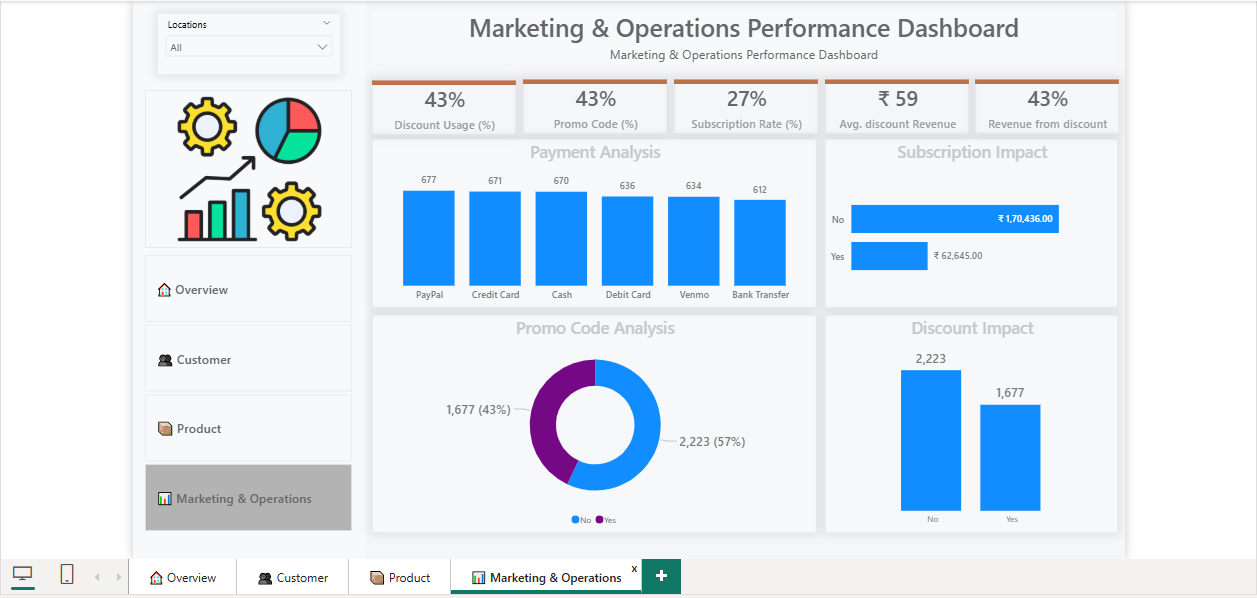

Layout of this report page (visuals, bound fields, positions):
{"tool":"powerbi","page":{"name":"📊    Marketing & Operations","canvas":[1280,720],"ordinal":3},"visuals":[{"type":"shape","box":[0,0,300.5,720],"z":0},{"type":"card","title":"Total Customer","fields":{"Values":["Overview Measure.Promo Code (%)"]},"box":[503,99,186.1,71.8],"z":0,"group":"g2"},{"type":"card","title":"Total Customer","fields":{"Values":["Overview Measure.Subscription Rate (%)"]},"box":[697.7,99.2,186.1,71.8],"z":0,"group":"g3"},{"type":"card","title":"Total Customer","fields":{"Values":["Overview Measure.Avg. discount Revenue"]},"box":[892.3,99.5,186.1,71.8],"z":0,"group":"g4"},{"type":"card","title":"Total Customer","fields":{"Values":["Overview Measure.Revenue from discount"]},"box":[1087,99.7,186.1,71.8],"z":0,"group":"g5"},{"type":"card","title":"Total Customer","fields":{"Values":["Overview Measure.Discount Usage (%)"]},"box":[308.4,100,186.1,71.8],"z":0,"group":"g1"},{"type":"shape","box":[503.6,94,185.7,19.8],"z":1000,"group":"g2"},{"type":"shape","box":[698.3,94.2,185.7,19.8],"z":1000,"group":"g3"},{"type":"shape","box":[892.9,94.5,185.7,19.8],"z":1000,"group":"g4"},{"type":"shape","box":[1087.6,94.7,185.7,19.8],"z":1000,"group":"g5"},{"type":"shape","box":[309,95,185.7,19.8],"z":1000,"group":"g1"},{"type":"pageNavigator","box":[15.5,327.7,267.1,357.4],"z":1000},{"type":"image","box":[15.5,114.8,267.1,203.9],"z":2000},{"type":"textbox","title":"Marketing & Operations Performance Dashboard","box":[308.4,11.6,960,74],"z":3000},{"type":"group","id":"g1","title":"Total Customer","box":[308.4,95,186.3,76.8],"z":4000},{"type":"group","id":"g2","title":"Total Customer","box":[503,94,186.3,76.8],"z":5000},{"type":"group","id":"g3","title":"Total Customer","box":[697.7,94.2,186.3,76.8],"z":6000},{"type":"group","id":"g4","title":"Total Customer","box":[892.3,94.5,186.3,76.8],"z":7000},{"type":"group","id":"g5","title":"Total Customer","box":[1087,94.7,186.3,76.8],"z":8000},{"type":"columnChart","title":"Payment Analysis","fields":{"Category":["dim_Payment_Type.@Payment_Type"],"Y":["Overview Measure.Total Order"]},"box":[309,178.6,574,218.3],"z":9000},{"type":"clusteredBarChart","title":"Subscription Impact","fields":{"Category":["FSales.Subscription Status"],"Y":["Overview Measure.Total Revenue"]},"box":[892.9,178.6,378,218.3],"z":10000},{"type":"donutChart","title":"Promo Code Analysis","fields":{"Category":["FSales.Promo Code Used"],"Y":["Overview Measure.Total Order"]},"box":[309,405.4,574,280.6],"z":11000},{"type":"columnChart","title":"Discount Impact","fields":{"Y":["Overview Measure.Total Order"],"Category":["FSales.Discount Applied"]},"box":[892.9,405.4,378.4,280.6],"z":12000},{"type":"slicer","fields":{"Values":["dim_Location.@Locations"]},"box":[31,15.5,237.4,80],"z":13000}]}

Visuals, with their boxes on the page's 1280x720 design canvas (x1, y1, x2, y2). These are canvas units, not pixel positions in the 1257x598 screenshot, which may show the page scaled, cropped or inside an application window:
shape: pyautogui.locateOnScreen(0, 0, 300, 720)
"Total Customer" card: pyautogui.locateOnScreen(503, 99, 689, 171)
"Total Customer" card: pyautogui.locateOnScreen(698, 99, 884, 171)
"Total Customer" card: pyautogui.locateOnScreen(892, 100, 1078, 171)
"Total Customer" card: pyautogui.locateOnScreen(1087, 100, 1273, 172)
"Total Customer" card: pyautogui.locateOnScreen(308, 100, 494, 172)
shape: pyautogui.locateOnScreen(504, 94, 689, 114)
shape: pyautogui.locateOnScreen(698, 94, 884, 114)
shape: pyautogui.locateOnScreen(893, 94, 1079, 114)
shape: pyautogui.locateOnScreen(1088, 95, 1273, 114)
shape: pyautogui.locateOnScreen(309, 95, 495, 115)
pageNavigator: pyautogui.locateOnScreen(16, 328, 283, 685)
image: pyautogui.locateOnScreen(16, 115, 283, 319)
"Marketing & Operations Performance Dashboard" textbox: pyautogui.locateOnScreen(308, 12, 1268, 86)
"Total Customer" group: pyautogui.locateOnScreen(308, 95, 495, 172)
"Total Customer" group: pyautogui.locateOnScreen(503, 94, 689, 171)
"Total Customer" group: pyautogui.locateOnScreen(698, 94, 884, 171)
"Total Customer" group: pyautogui.locateOnScreen(892, 94, 1079, 171)
"Total Customer" group: pyautogui.locateOnScreen(1087, 95, 1273, 172)
"Payment Analysis" columnChart: pyautogui.locateOnScreen(309, 179, 883, 397)
"Subscription Impact" clusteredBarChart: pyautogui.locateOnScreen(893, 179, 1271, 397)
"Promo Code Analysis" donutChart: pyautogui.locateOnScreen(309, 405, 883, 686)
"Discount Impact" columnChart: pyautogui.locateOnScreen(893, 405, 1271, 686)
slicer - dim_Location.@Locations: pyautogui.locateOnScreen(31, 16, 268, 96)
